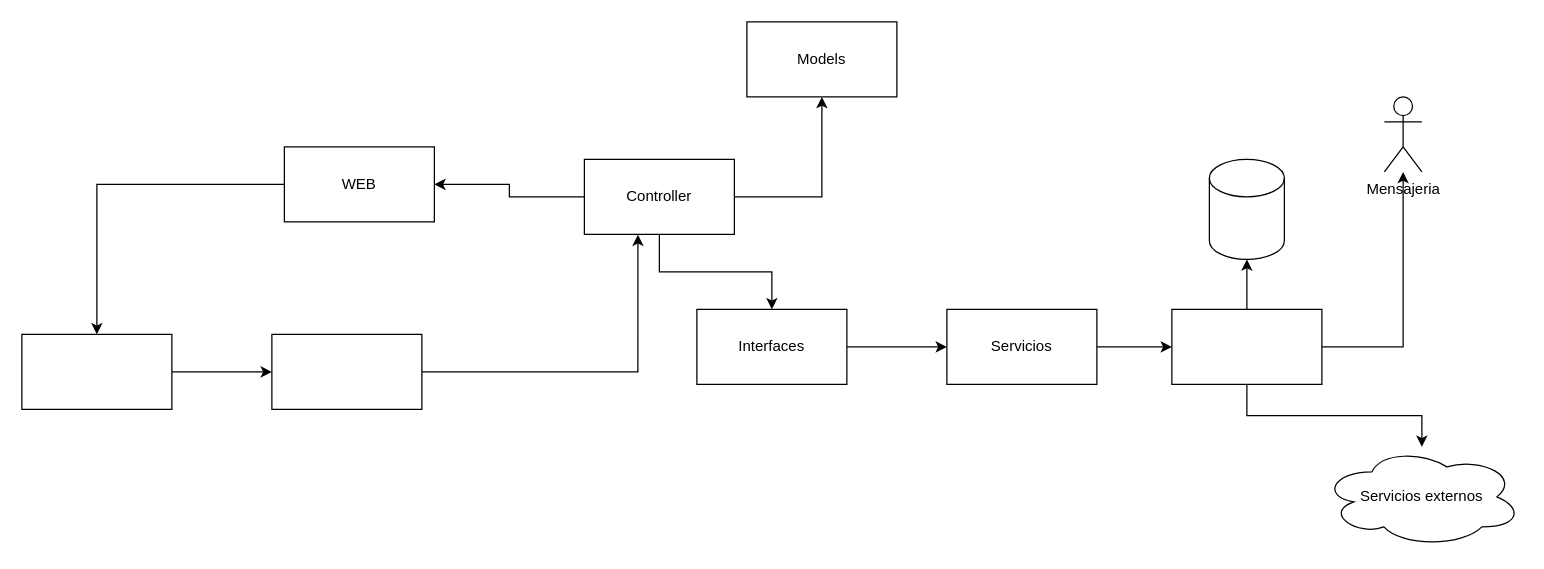
This 1544x569 diagram has some shape labels left out. Each missing label, with the centre of its shape:
RegistrosDePedido: the point at 96,371
Repositories: the point at 1246,346
Revisión y Aprobaciones: the point at 346,371
